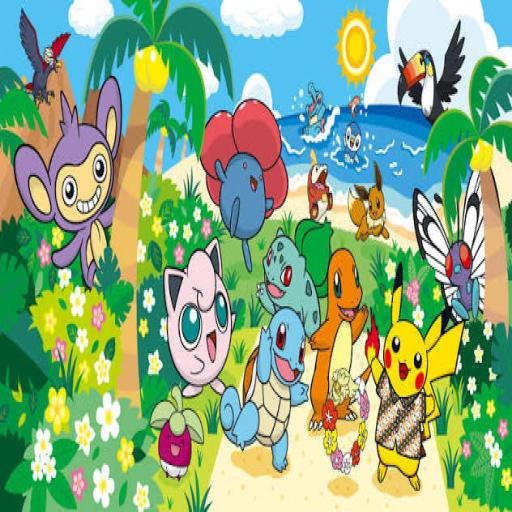Pikachu: (371, 264, 466, 490)
